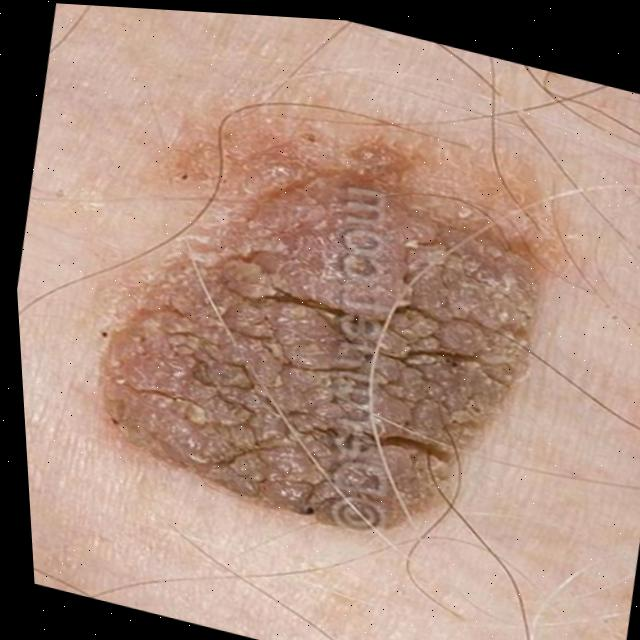Eczema: (119, 120, 561, 523)
